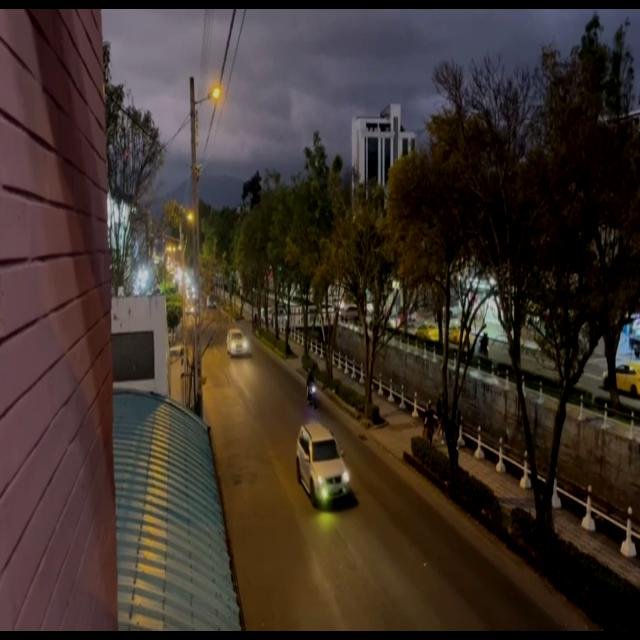MOTORCYCLE: (306, 370, 318, 410)
SUV: (297, 422, 352, 508), (226, 329, 249, 359)
